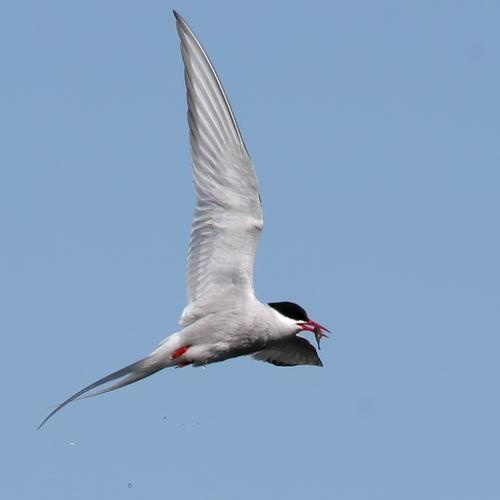bird: (33, 2, 331, 432)
